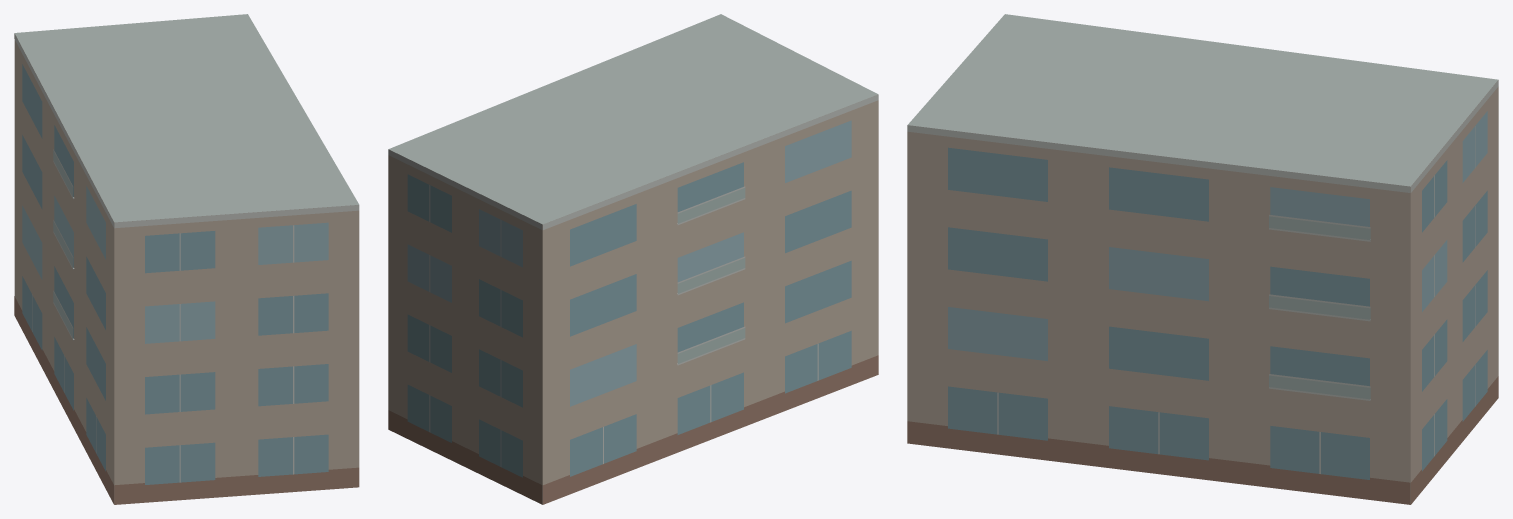
The model's file is survey-upis-32763889.glb.
3 views of the same model, side by side, from view 1: azimuth 30°, elevation 25°; view 2: azimuth 150°, elevation 25°; view 3: azimuth 270°, elevation 25° (orthographic). The views are drawn at different scales.
Visible parts, largest first — view 1: survey-upis-32763889.tmp; view 2: survey-upis-32763889.tmp; view 3: survey-upis-32763889.tmp.
Boxes of the visible parts, x1,y1,x2,y2 form: survey-upis-32763889.tmp: [14, 14, 359, 504]; survey-upis-32763889.tmp: [388, 14, 878, 504]; survey-upis-32763889.tmp: [907, 14, 1498, 504].
Size of the model in its own units: 13.73 by 11.8 by 19.87.
